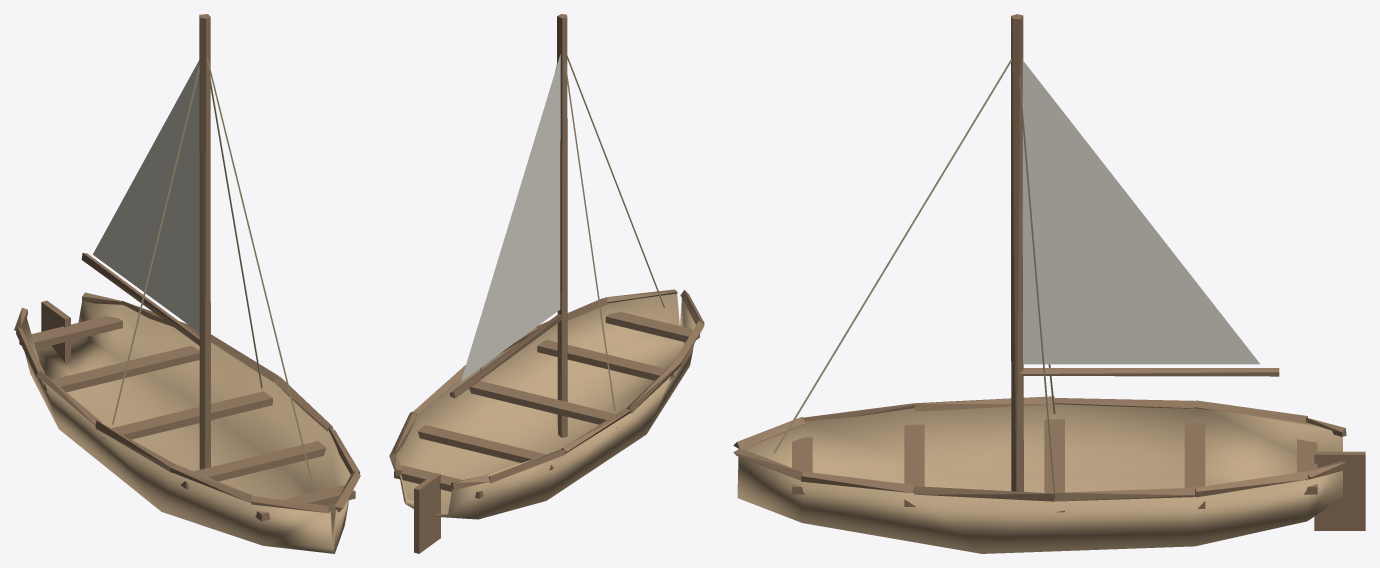
Rendered from boats.sloop.lod1.glb.
3 renders of one model, left to right at view 1: azimuth 30°, elevation 25°; view 2: azimuth 150°, elevation 25°; view 3: azimuth 270°, elevation 25°, orthographic. The views are drawn at different scales.
Visible parts, largest first — view 1: Hull, Sail, Mast, Seat.003, Seat.002, Seat.001, Seat.004, Boom, Rigging.002, Rudder, Rigging, Seat (+9 smaller); view 2: Hull, Sail, Mast, Seat.002, Rudder, Seat.003, Seat.001, Seat, Boom, Rigging, Seat.004, Gunwale.008 (+7 smaller); view 3: Hull, Sail, Mast, Rudder, Boom, Seat.002, Seat.003, Gunwale.007, Seat.001, Gunwale.005, Gunwale.004, Gunwale.003 (+6 smaller).
Boxes of the visible parts, x1=… form: Hull: x1=21, y1=301, x2=350, y2=553; Sail: x1=93, y1=60, x2=199, y2=332; Mast: x1=199, y1=14, x2=210, y2=469; Seat.003: x1=44, y1=346, x2=199, y2=392; Seat.002: x1=102, y1=391, x2=272, y2=439; Seat.001: x1=181, y1=441, x2=326, y2=489; Seat.004: x1=19, y1=316, x2=122, y2=349; Boom: x1=81, y1=253, x2=199, y2=345; Rigging.002: x1=206, y1=56, x2=317, y2=500; Rudder: x1=41, y1=300, x2=70, y2=362; Rigging: x1=112, y1=65, x2=199, y2=424; Seat: x1=255, y1=485, x2=355, y2=521; Hull: x1=396, y1=293, x2=695, y2=519; Sail: x1=461, y1=54, x2=560, y2=381; Mast: x1=557, y1=14, x2=567, y2=437; Seat.002: x1=469, y1=380, x2=617, y2=428; Rudder: x1=414, y1=473, x2=440, y2=553; Seat.003: x1=417, y1=425, x2=553, y2=470; Seat.001: x1=537, y1=339, x2=674, y2=380; Seat: x1=605, y1=312, x2=699, y2=342; Boom: x1=450, y1=314, x2=562, y2=398; Rigging: x1=565, y1=63, x2=615, y2=410; Seat.004: x1=394, y1=465, x2=483, y2=498; Gunwale.008: x1=489, y1=449, x2=565, y2=483; Hull: x1=737, y1=404, x2=1343, y2=553; Sail: x1=1022, y1=60, x2=1259, y2=364; Mast: x1=1011, y1=14, x2=1023, y2=491; Rudder: x1=1314, y1=451, x2=1365, y2=530; Boom: x1=1019, y1=368, x2=1279, y2=376; Seat.002: x1=1044, y1=419, x2=1064, y2=512; Seat.003: x1=1184, y1=423, x2=1205, y2=508; Gunwale.007: x1=1054, y1=487, x2=1195, y2=501; Seat.001: x1=904, y1=424, x2=924, y2=506; Gunwale.005: x1=914, y1=486, x2=1054, y2=501; Gunwale.004: x1=914, y1=396, x2=1054, y2=411; Gunwale.003: x1=801, y1=471, x2=914, y2=493.
Bounding box in the file's own units: 2.49 × 6.05 × 6.76.
